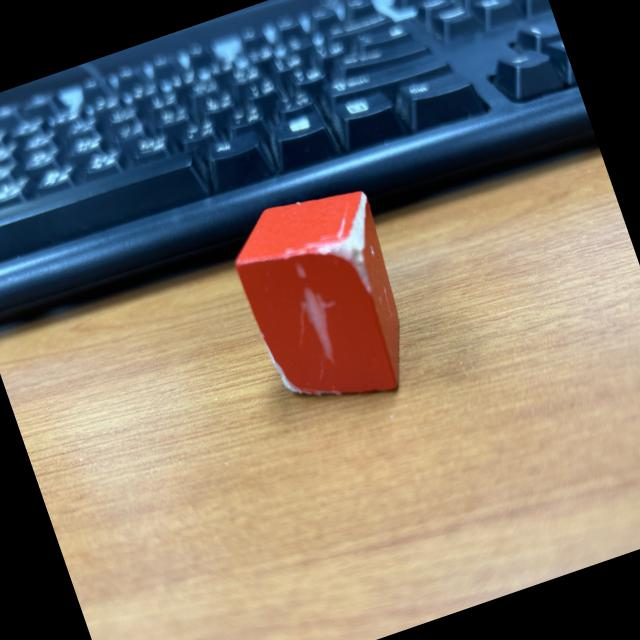broken: (218, 174, 431, 427)
